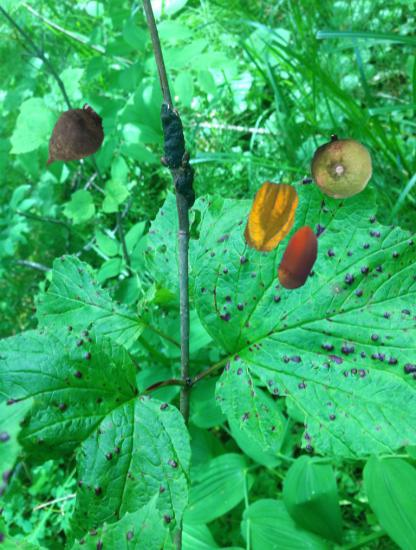Beetroot: (31, 101, 111, 181)
Hazelnut: (265, 224, 334, 293)
Limes: (309, 135, 373, 199)
Physalis: (234, 180, 309, 255)
